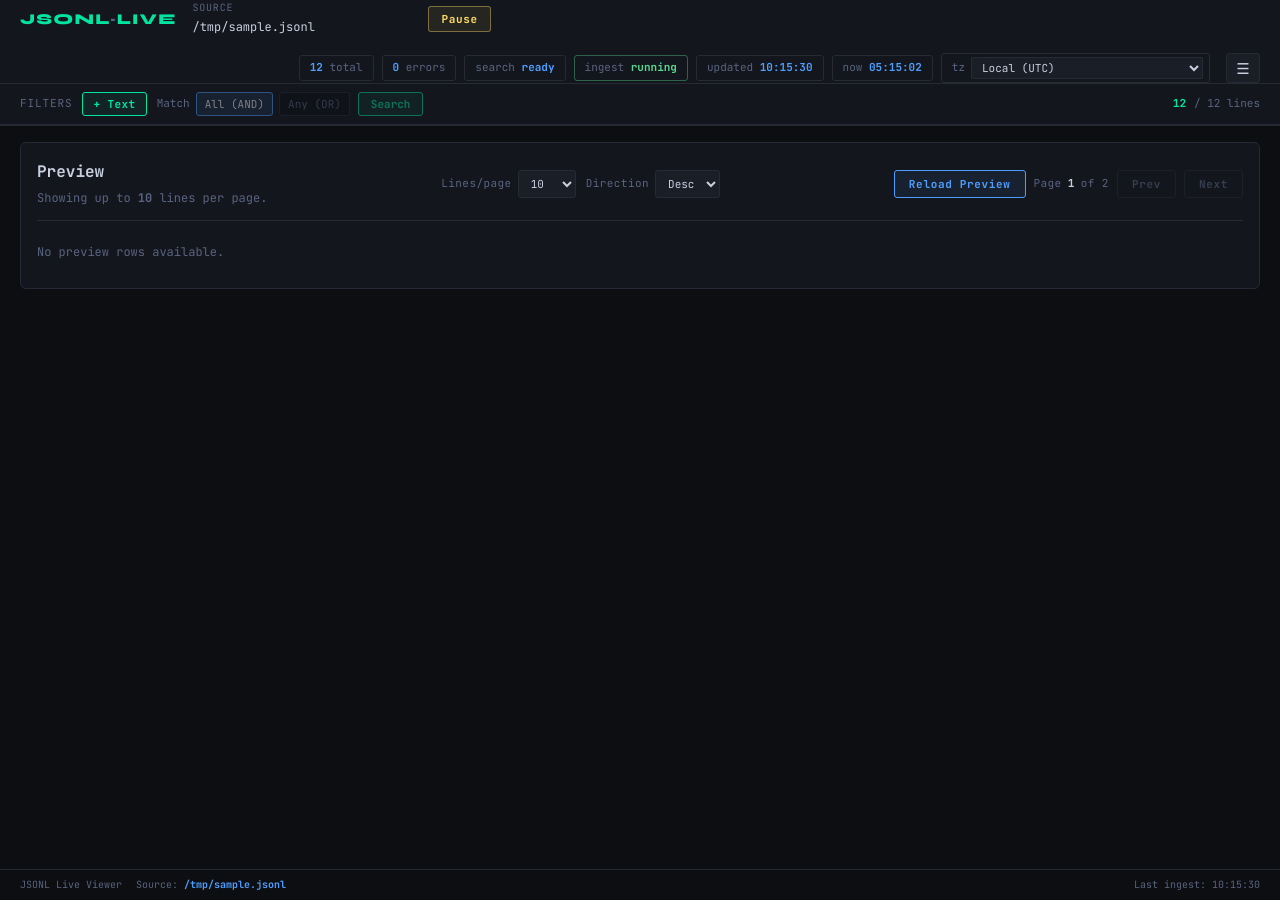
Test: App admin confirmations and lock › clears lock and surfaces error when admin action fails
Step 1. Click the button named "Open admin menu" → {"x": 1243, "y": 68}, box [1226,53,1260,83]
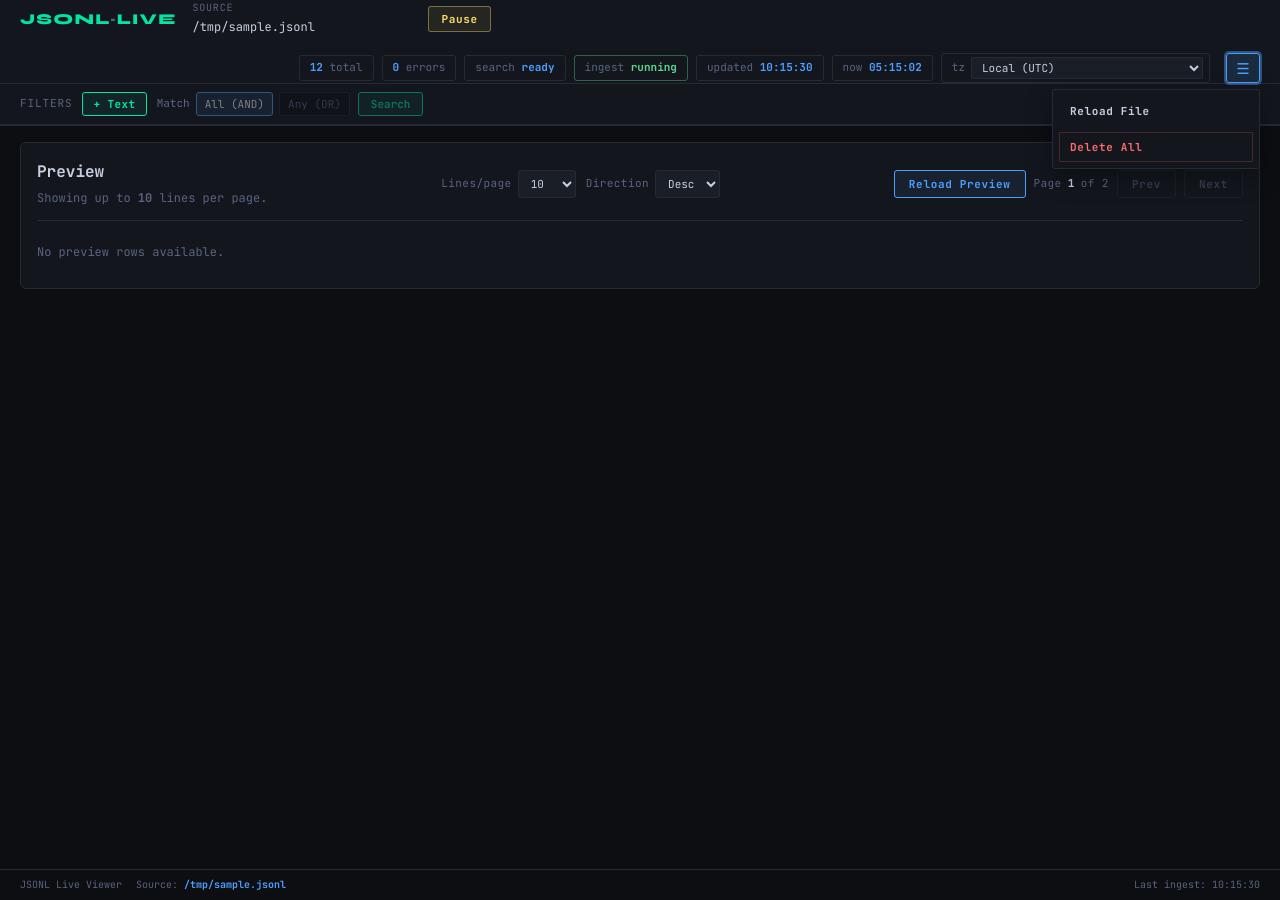
Step 2. Click the menu item "Reload File" → {"x": 1156, "y": 111}, box [1059,96,1253,126]
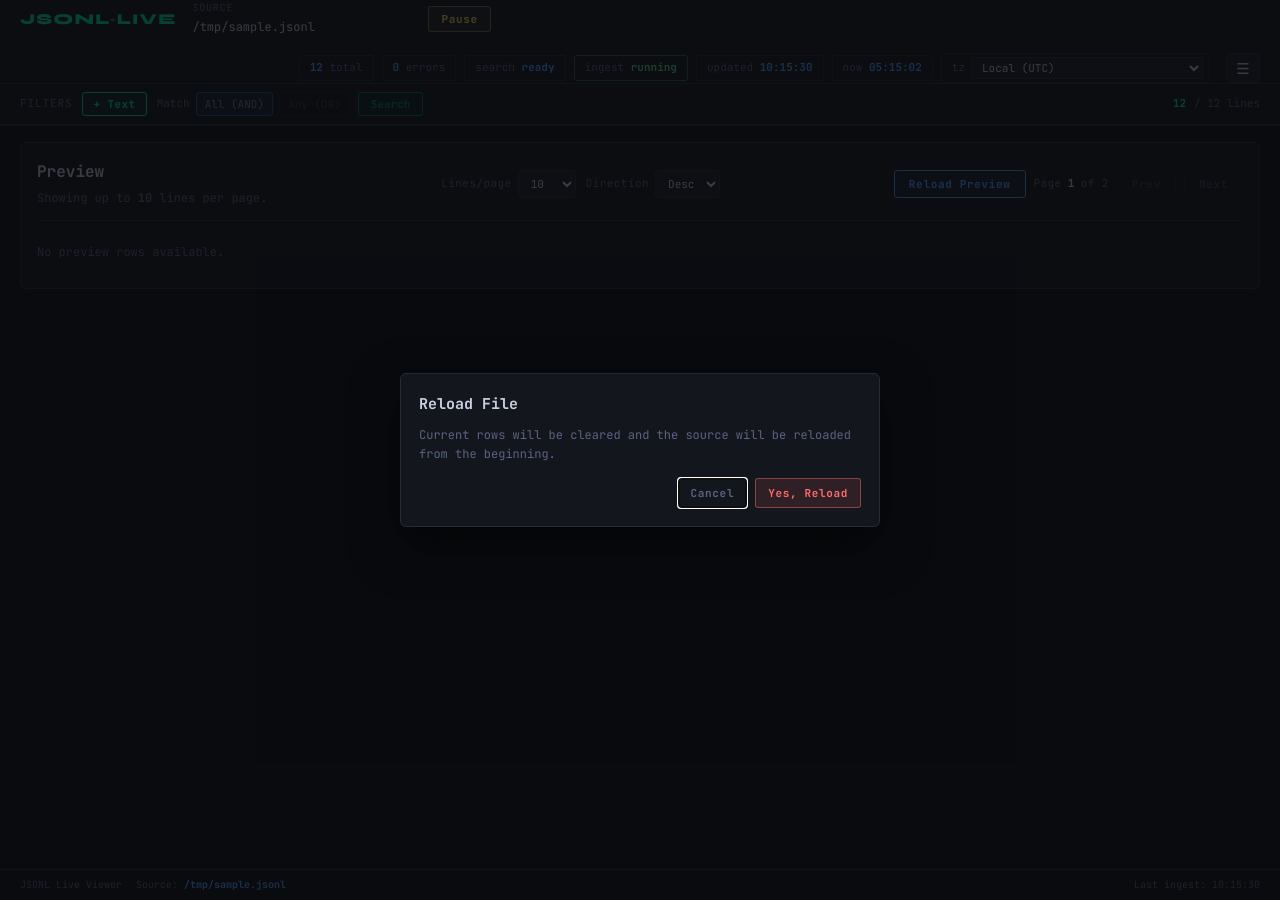
Step 3. Click the button "Yes, Reload" → {"x": 808, "y": 493}, box [755,478,861,508]
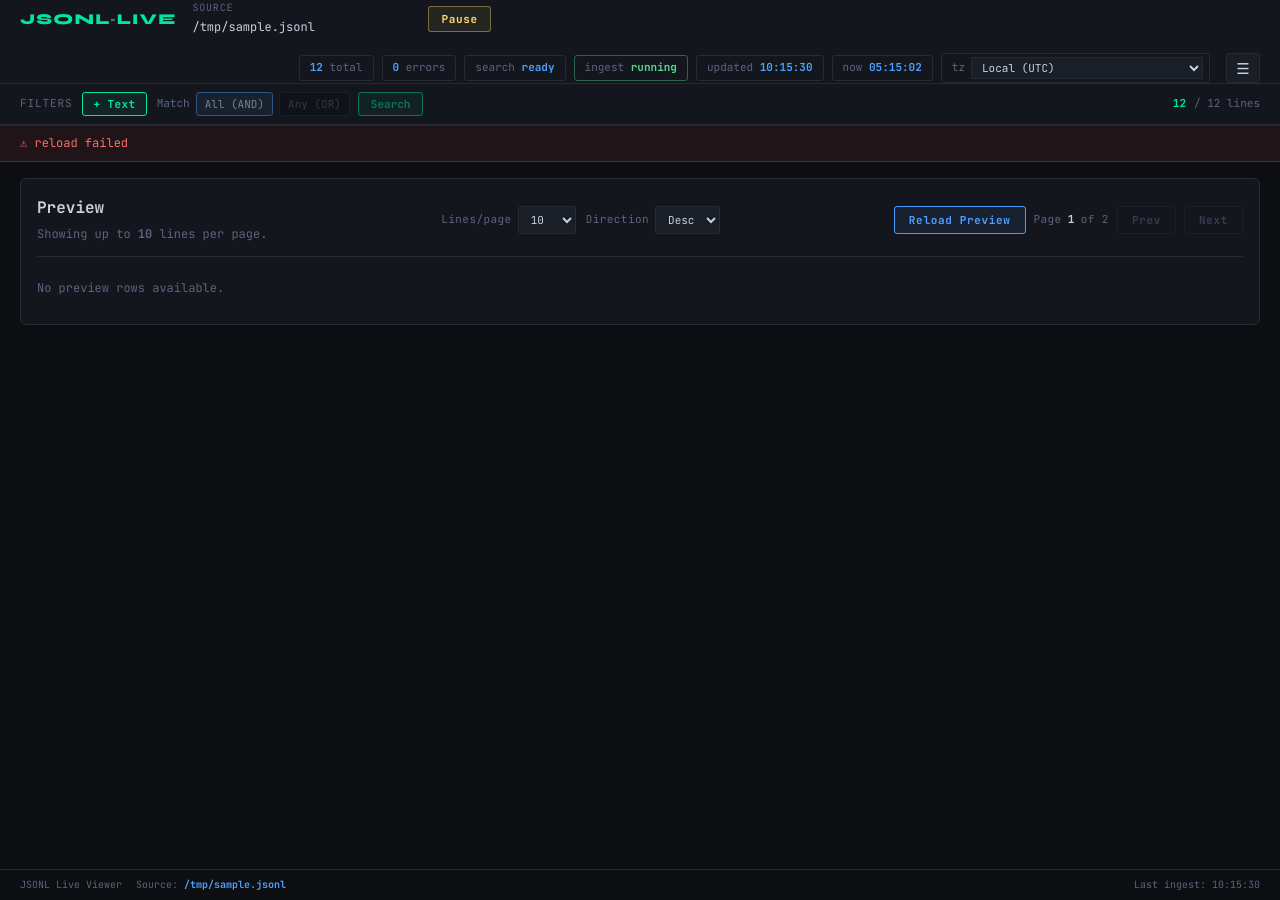
expect the button "Pause" is enabled: met, box [428,6,491,32]
expect the message shows "reload failed": met, box [34,135,128,151]
